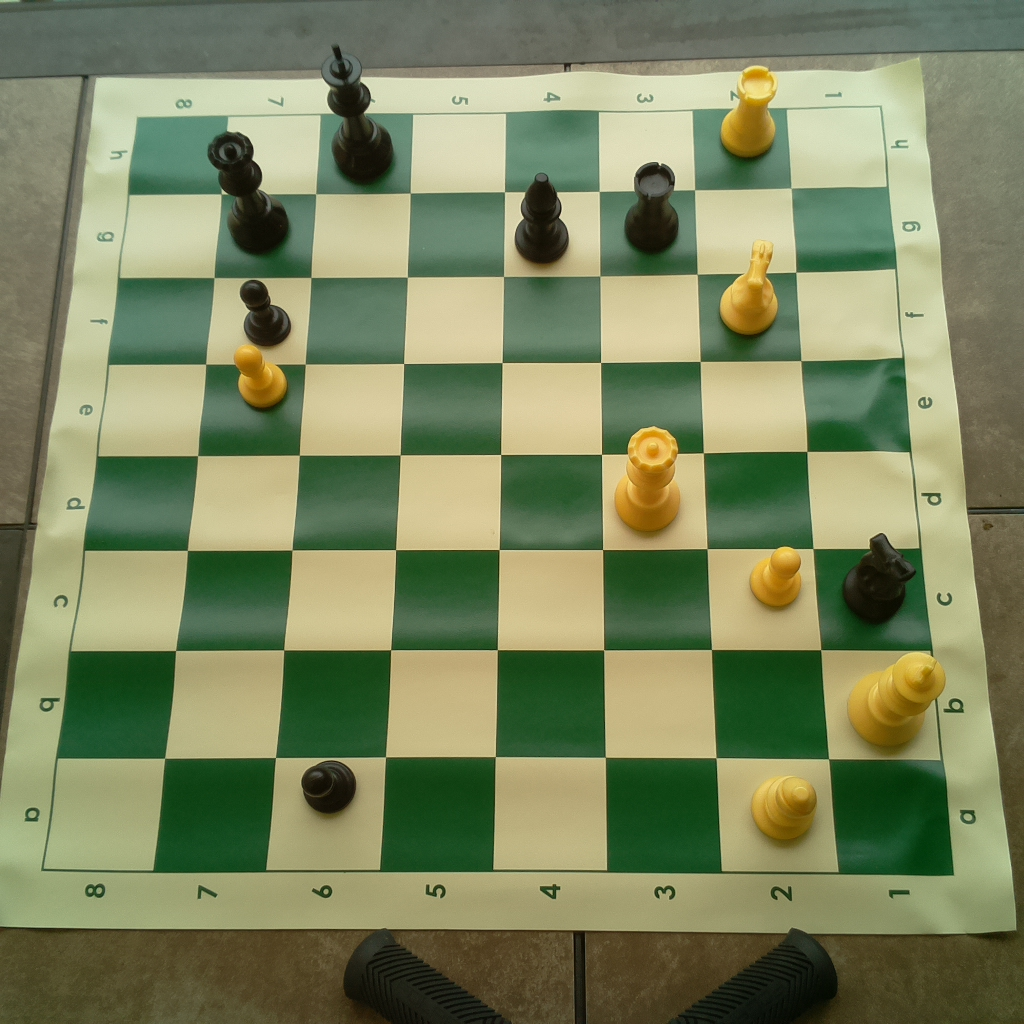black_bishop: (510, 166, 575, 264)
black_king: (315, 38, 401, 182)
black_knight: (840, 526, 920, 623)
black_pawn: (233, 273, 298, 347), (301, 753, 363, 819)
black_queen: (201, 125, 296, 258)
black_rook: (618, 160, 686, 256)
file_a: (40, 757, 959, 877)
file_b: (55, 652, 941, 762)
file_c: (67, 548, 933, 653)
file_d: (84, 449, 921, 547)
file_e: (99, 358, 915, 451)
file_f: (110, 269, 906, 361)
file_g: (121, 187, 896, 280)
file_h: (127, 105, 883, 188)
outline: (37, 106, 959, 877)
rank_1: (788, 108, 955, 877)
rank_2: (692, 109, 838, 871)
rank_3: (599, 109, 725, 874)
rank_4: (488, 113, 606, 875)
rank_5: (379, 117, 505, 874)
rank_6: (267, 113, 412, 874)
rank_7: (151, 112, 321, 874)
rank_8: (40, 118, 231, 873)
white_bishop: (749, 771, 823, 844)
white_king: (846, 640, 950, 754)
white_knight: (712, 236, 785, 339)
white_pawn: (225, 341, 290, 408), (747, 540, 807, 612)
white_queen: (610, 421, 685, 531)
white_rook: (715, 62, 780, 160)
